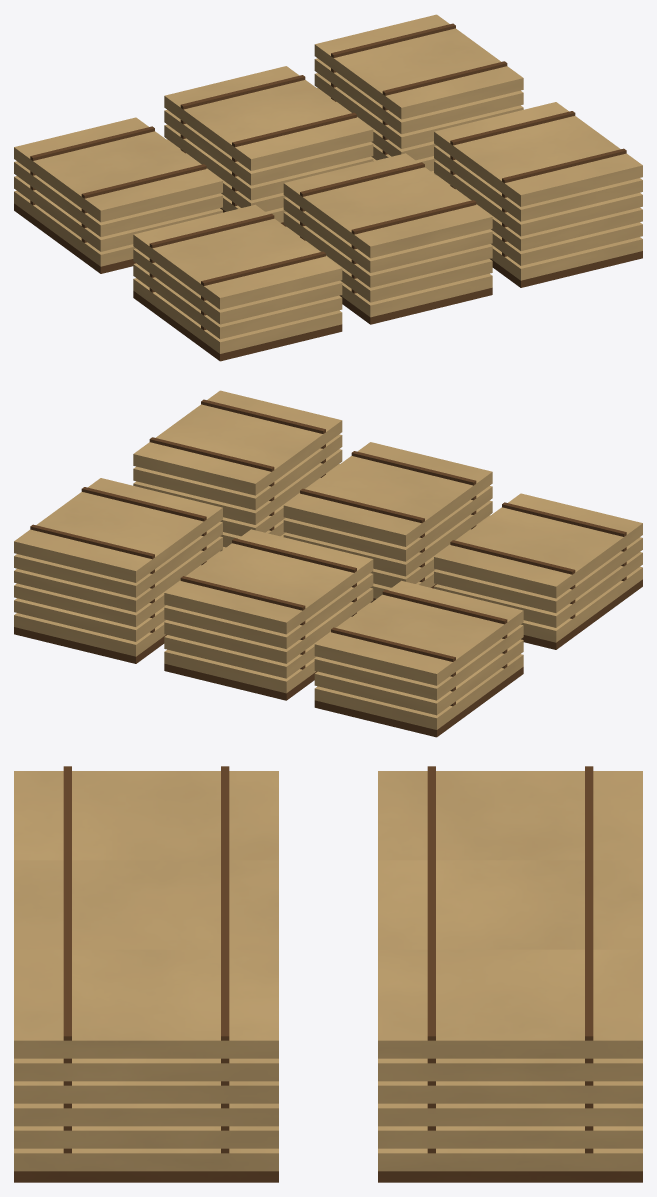
Rendered from pv_hromada_prkna.glb.
The picture shows the model from 3 angles, top to bottom: view 1: azimuth 30°, elevation 25°; view 2: azimuth 150°, elevation 25°; view 3: azimuth 270°, elevation 25°; orthographic projection. The views are drawn at different scales.
Parts seen in each view (by area): view 1: dum; view 2: dum; view 3: dum.
Part boxes in pixels (box(x1,y1,x2,y2)): dum: box(14, 14, 642, 361); dum: box(14, 390, 642, 737); dum: box(14, 766, 642, 1182).
Size of the model in its own units: 8.98 by 1.95 by 7.58.
1 material, 1 textured.
